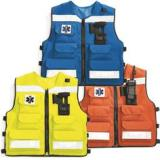Vest: (4, 71, 88, 157), (41, 0, 124, 86), (77, 62, 160, 148)
